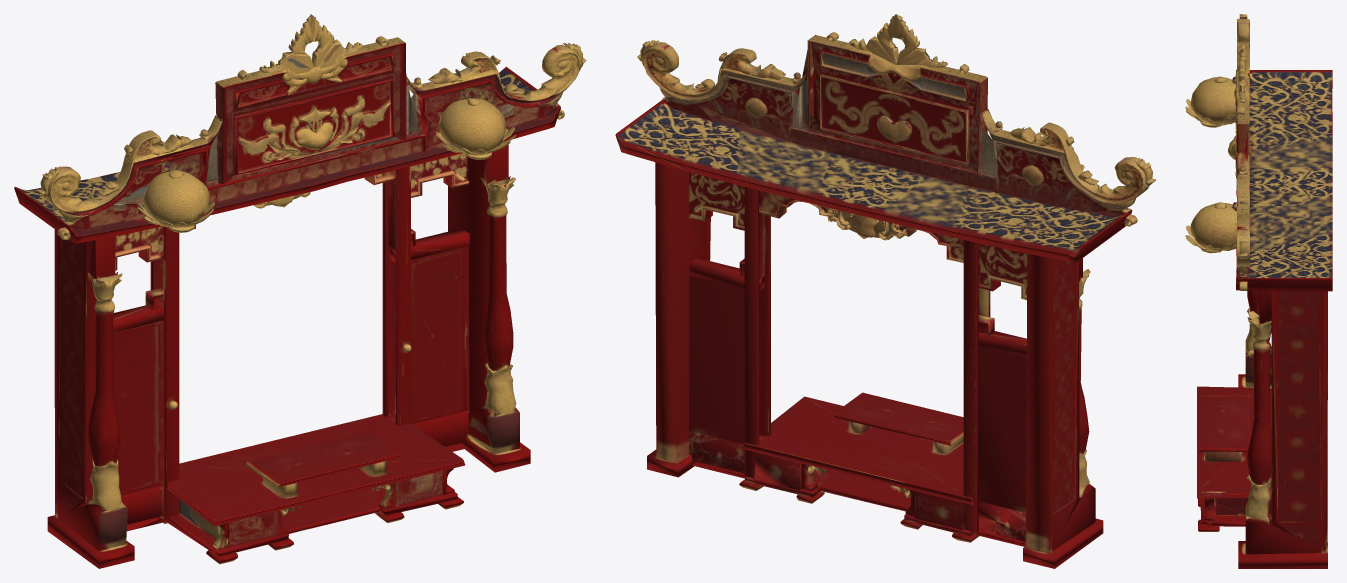
The model's file is bao-lam-thep-vang.glb.
The picture shows the model from 3 angles, left to right: view 1: azimuth 30°, elevation 25°; view 2: azimuth 150°, elevation 25°; view 3: azimuth 270°, elevation 25°; orthographic projection. The views are drawn at different scales.
Bounding box in the file's own units: 2 × 1.76 × 0.5385.
1 material, 1 textured.
